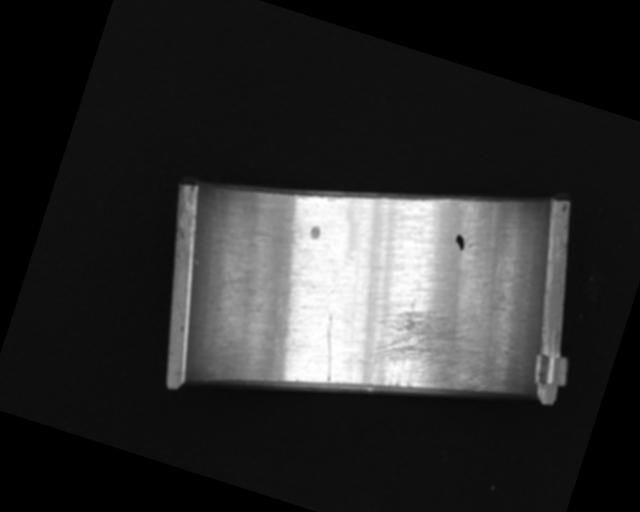blot: (452, 234, 468, 253)
bruise: (308, 224, 322, 240)
nick: (189, 188, 262, 289), (309, 313, 350, 383)
scratch: (355, 292, 502, 421)
